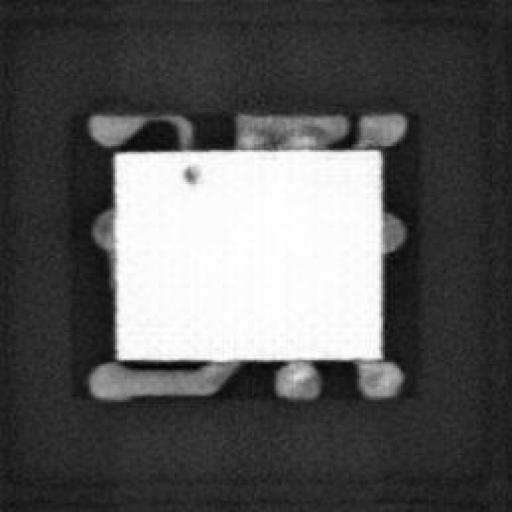DIE_INK: (178, 161, 200, 182)
